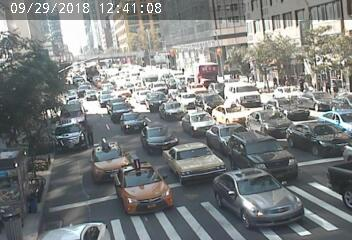car: (220, 170, 297, 222), (230, 127, 292, 168), (116, 165, 168, 203), (169, 144, 217, 176), (295, 121, 340, 155), (255, 108, 293, 136), (223, 79, 263, 103), (145, 127, 180, 153), (218, 101, 252, 125), (299, 94, 337, 115), (94, 144, 123, 171), (61, 104, 92, 126), (190, 115, 223, 135), (58, 127, 86, 146), (121, 113, 148, 130), (158, 105, 180, 119), (112, 102, 131, 118), (178, 91, 199, 105), (186, 84, 207, 95), (96, 89, 111, 104), (149, 81, 171, 90), (77, 92, 99, 101), (147, 93, 162, 106), (73, 83, 91, 92)
